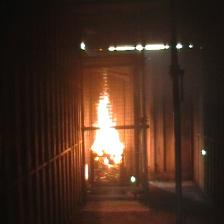fire: (86, 93, 129, 173)
